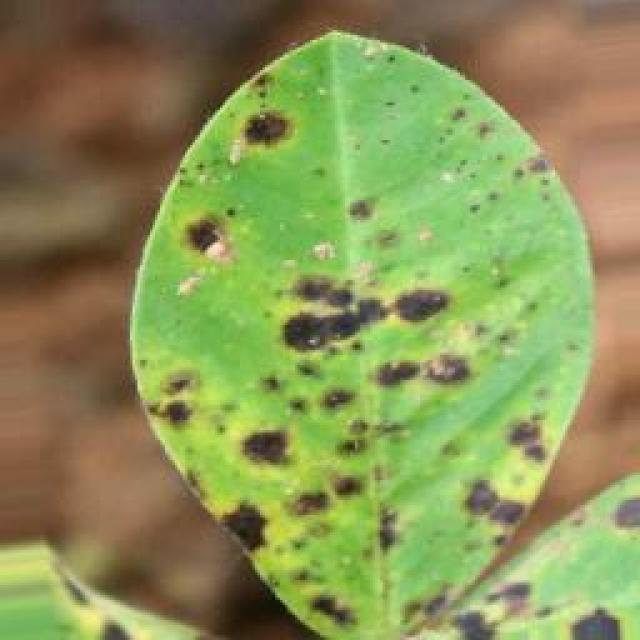Yellowish: (99, 13, 595, 592)
